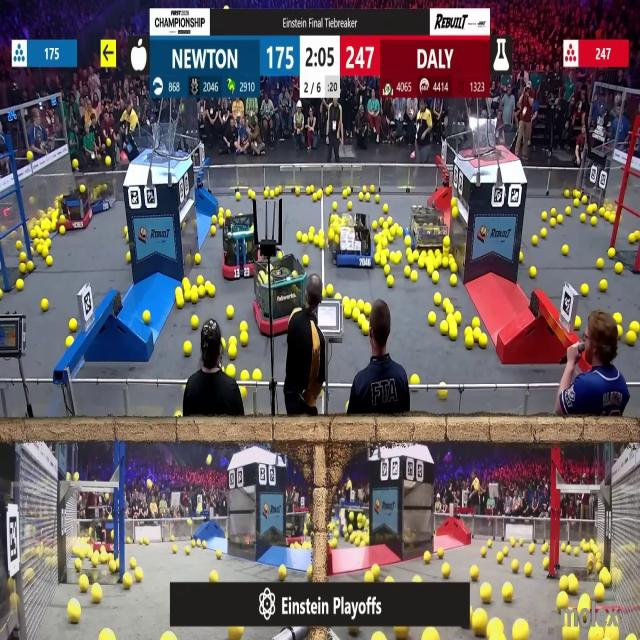ball_airborne: (131, 111, 138, 126), (28, 150, 34, 160), (73, 160, 78, 170), (106, 139, 112, 147), (207, 456, 212, 465), (106, 158, 111, 166)
ball_ground: (470, 612, 486, 637), (514, 621, 529, 640), (68, 600, 80, 622), (481, 585, 492, 604), (501, 585, 512, 603), (568, 578, 578, 596), (92, 586, 102, 604), (595, 586, 605, 603), (558, 593, 568, 609), (580, 592, 590, 608), (600, 571, 610, 585), (79, 578, 88, 592), (9, 594, 18, 608), (122, 573, 130, 588), (101, 630, 113, 640), (559, 579, 568, 592), (443, 564, 451, 578), (278, 565, 286, 579), (183, 342, 191, 356), (469, 566, 477, 580), (590, 628, 600, 639), (627, 334, 636, 346), (210, 570, 219, 582), (563, 628, 572, 640), (240, 334, 248, 347), (190, 316, 198, 329), (142, 311, 150, 324), (480, 336, 488, 349), (512, 560, 520, 573), (230, 346, 238, 359), (428, 313, 436, 326), (370, 565, 378, 578), (241, 368, 250, 379), (226, 306, 233, 320), (136, 568, 143, 582), (616, 264, 624, 276), (208, 284, 216, 296), (450, 326, 458, 338), (465, 338, 473, 350), (442, 322, 450, 334), (361, 322, 369, 334), (393, 251, 401, 263), (70, 319, 77, 332), (525, 563, 532, 576), (226, 364, 234, 375), (252, 368, 260, 379), (582, 284, 590, 295), (364, 571, 372, 582), (440, 389, 448, 400), (426, 265, 434, 276), (600, 280, 607, 292), (41, 300, 48, 312), (541, 558, 548, 570), (431, 273, 438, 285), (424, 552, 431, 564), (597, 257, 604, 269), (177, 295, 184, 307), (363, 303, 370, 315), (112, 560, 119, 572), (66, 338, 74, 348), (631, 321, 639, 331), (230, 337, 238, 347), (628, 234, 636, 244), (574, 317, 580, 330), (387, 276, 394, 287), (15, 280, 22, 291), (434, 293, 441, 304), (451, 275, 458, 286), (345, 308, 352, 319), (190, 291, 197, 302), (199, 286, 206, 297), (352, 309, 359, 320), (443, 257, 450, 268), (530, 267, 536, 279), (28, 262, 34, 274), (326, 284, 332, 296), (18, 252, 26, 261), (403, 267, 409, 279), (241, 386, 247, 398), (308, 566, 314, 578), (562, 245, 569, 255), (193, 253, 200, 263), (412, 375, 419, 385), (45, 256, 52, 266), (131, 558, 138, 568), (591, 216, 598, 226), (403, 237, 410, 247), (444, 296, 451, 306), (330, 538, 337, 548), (93, 556, 100, 566), (164, 633, 174, 640), (608, 248, 614, 259), (616, 313, 622, 324), (412, 271, 418, 282), (76, 559, 82, 570), (618, 325, 624, 336), (414, 574, 422, 582), (451, 265, 458, 274), (472, 328, 479, 337), (36, 246, 43, 255), (198, 276, 205, 285), (539, 230, 546, 239), (419, 261, 426, 270), (565, 207, 572, 216), (396, 226, 403, 235), (381, 256, 388, 265), (49, 221, 56, 230), (304, 255, 310, 265), (241, 321, 247, 331), (455, 313, 461, 323), (445, 237, 451, 247), (182, 278, 188, 288), (19, 264, 25, 274), (579, 213, 585, 223), (532, 236, 538, 246), (452, 208, 458, 218), (519, 252, 525, 262), (439, 549, 445, 559), (497, 554, 503, 564), (409, 254, 415, 264), (127, 252, 133, 262), (375, 254, 381, 264), (319, 239, 325, 249), (529, 543, 535, 553), (328, 232, 334, 242), (588, 206, 594, 216), (314, 237, 320, 247), (609, 214, 615, 224), (382, 238, 388, 248), (465, 327, 472, 335), (557, 215, 564, 223), (176, 287, 183, 295), (364, 192, 371, 200), (357, 299, 364, 307), (434, 249, 441, 257), (427, 250, 434, 258), (472, 318, 478, 327), (211, 225, 217, 234), (452, 199, 458, 208), (212, 215, 218, 224), (551, 217, 557, 226), (249, 190, 255, 199), (15, 241, 21, 250), (371, 220, 377, 229), (308, 235, 314, 244), (42, 246, 48, 255), (220, 339, 226, 348), (60, 215, 66, 224), (303, 236, 309, 245), (343, 188, 349, 197), (44, 231, 50, 240), (566, 544, 572, 553), (580, 197, 586, 206), (385, 266, 390, 276), (482, 548, 487, 558), (594, 561, 599, 571), (435, 259, 440, 269), (386, 575, 393, 582), (331, 203, 337, 211), (172, 544, 178, 552), (564, 189, 570, 197), (224, 210, 230, 218), (448, 306, 454, 314), (218, 217, 224, 225), (358, 192, 364, 200), (541, 212, 547, 220), (343, 296, 349, 304), (541, 544, 547, 552), (573, 200, 579, 208), (447, 314, 453, 322), (45, 240, 51, 248), (307, 186, 313, 194), (329, 214, 335, 222), (270, 190, 276, 198), (449, 256, 455, 264), (388, 236, 394, 244), (216, 551, 221, 560), (61, 225, 66, 234), (185, 545, 190, 554), (388, 217, 393, 226), (552, 208, 557, 217), (628, 635, 637, 640), (337, 292, 343, 299), (175, 412, 181, 419), (237, 191, 242, 199), (348, 202, 353, 210), (296, 232, 300, 242), (376, 194, 381, 202), (307, 224, 312, 232), (0, 289, 4, 299), (503, 546, 508, 554), (380, 217, 385, 225), (384, 248, 389, 256), (351, 297, 356, 305), (313, 191, 317, 200), (408, 248, 413, 255), (187, 520, 192, 527), (369, 185, 374, 192), (319, 231, 324, 238), (561, 543, 566, 550), (520, 539, 525, 546), (512, 539, 517, 546), (74, 472, 79, 479), (384, 205, 388, 213), (266, 190, 270, 198), (488, 539, 492, 547), (190, 540, 195, 546), (123, 226, 127, 233), (218, 208, 222, 215), (295, 188, 299, 195), (171, 535, 175, 541), (144, 538, 148, 544), (204, 540, 207, 547)
goal: (464, 122, 520, 160), (121, 129, 187, 159)
robot_blue: (332, 213, 374, 270), (410, 204, 447, 251), (89, 174, 117, 213), (340, 479, 368, 510)
robot_red: (253, 248, 307, 336), (222, 216, 259, 278), (58, 190, 92, 230), (90, 518, 118, 550), (284, 513, 306, 545)
